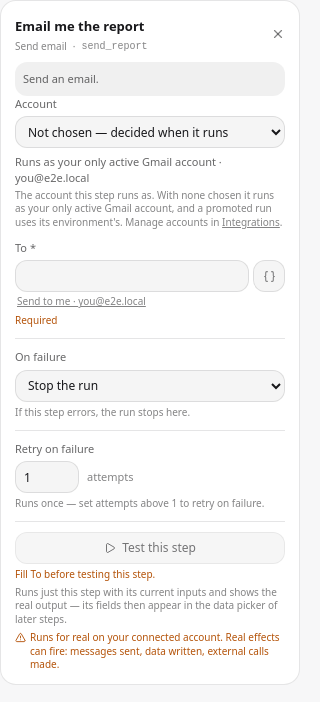
Test case: the step's account, as the run would decide it › with no account chosen, Me is the account it runs as — offered to send to, and previewed
Click the button with test id "send-to-me" at point(81, 302), box [15, 294, 148, 309]
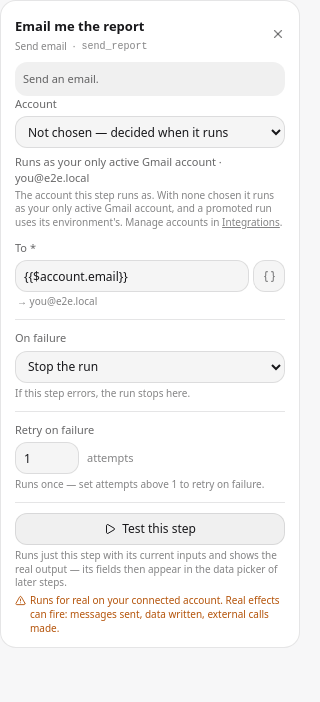
expect the text with test id "ref-preview" reads "→ you@e2e.local": met, box [17, 294, 97, 308]
